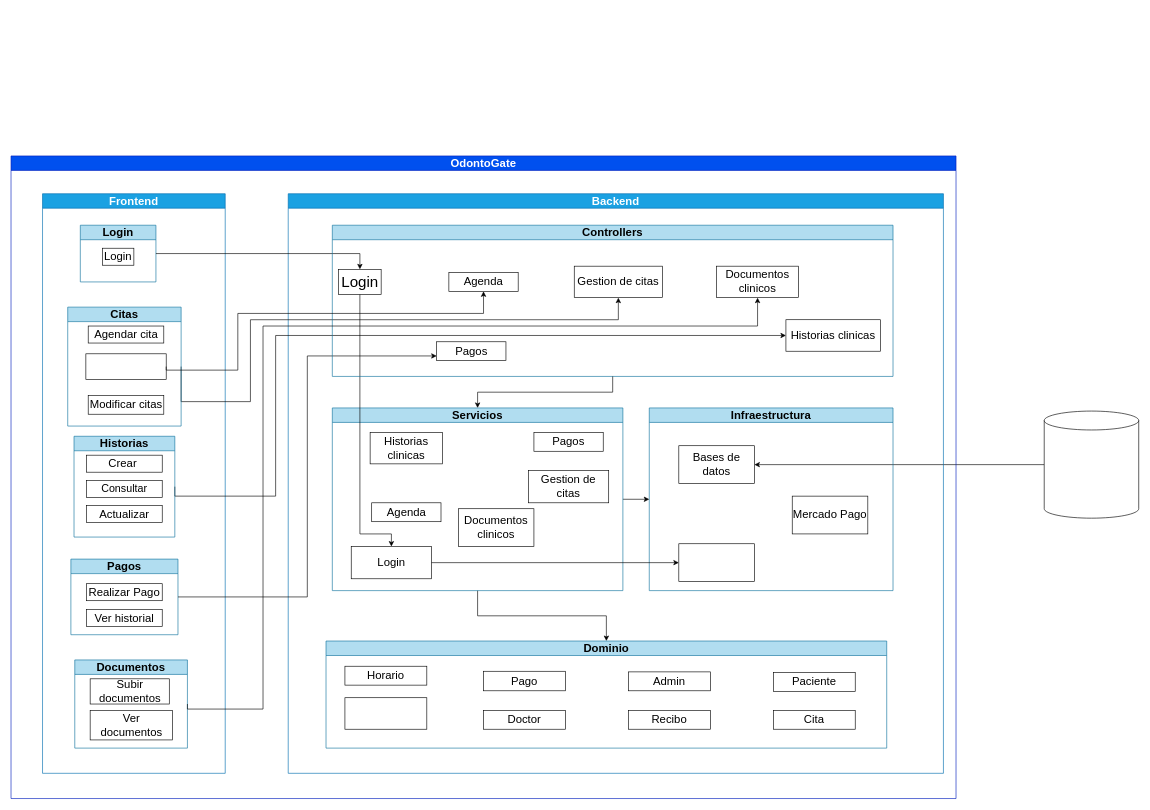
Some shapes in this 1150 by 810 pixel diagram are drawn without their labels. The centre of each missing label's shape, as x and y in pixels:
Autenticación: the point at 716,562
BD Negocio: the point at 1091,464
Consultar Citas: the point at 125,366
Historia Clinica: the point at 385,713
